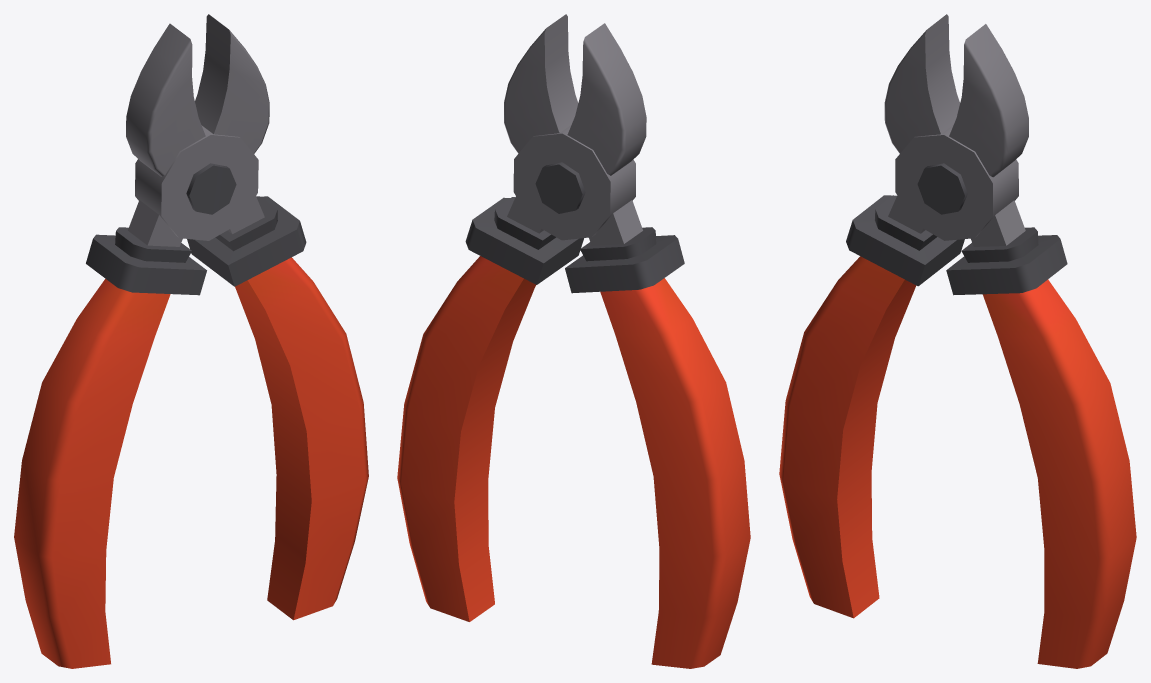
The model's file is Pliers_01.fbx.
3 renders of one model, left to right at view 1: azimuth 30°, elevation 25°; view 2: azimuth 150°, elevation 25°; view 3: azimuth 330°, elevation 25°, orthographic.
Parts seen in each view (by area): view 1: Pliers_01; view 2: Pliers_01; view 3: Pliers_01.
Part boxes in pixels (x1=…): Pliers_01: x1=14, y1=14, x2=368, y2=668; Pliers_01: x1=397, y1=14, x2=750, y2=668; Pliers_01: x1=779, y1=14, x2=1136, y2=668.
Bounding box in the file's own units: 20.67 × 4.71 × 36.36.
